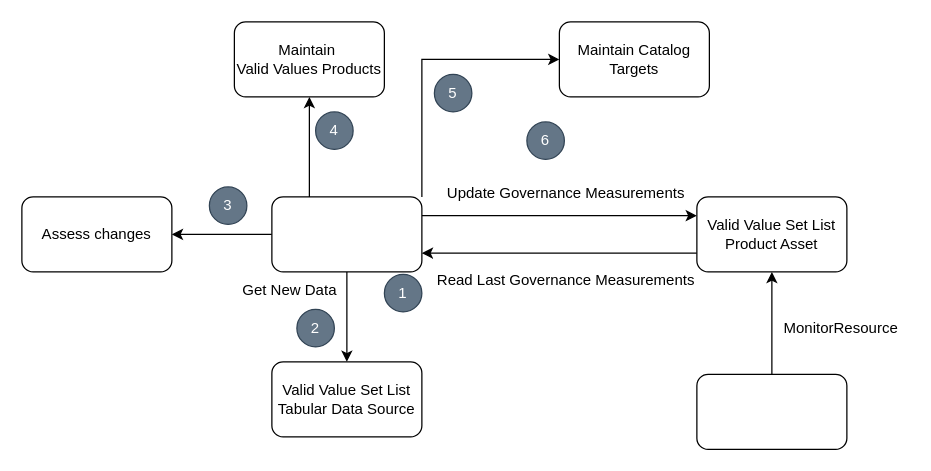
Image size: 931x471. Some labels were removed from this diagram. Each missing label, with the box of its shape:
Harvester: (271, 196, 422, 272)
Product Notification Type: (696, 373, 847, 449)
